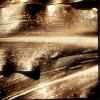Corn rust leaf: (0, 3, 99, 76), (24, 56, 99, 100)
